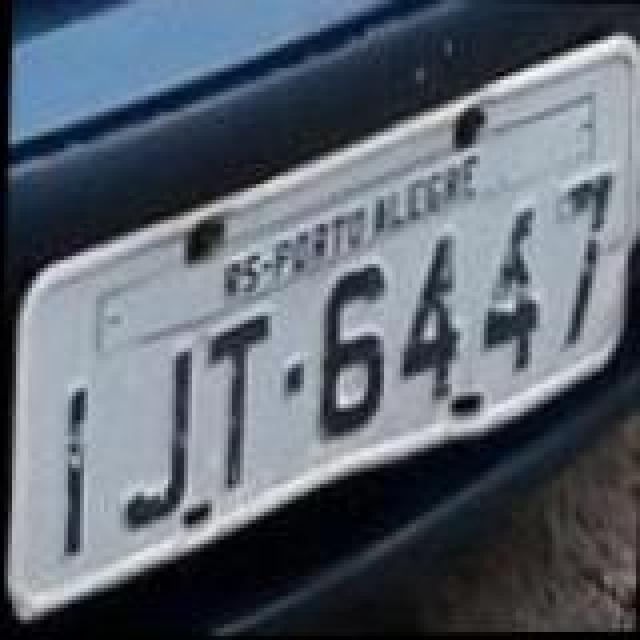1: (54, 382, 90, 562)
4: (396, 232, 464, 408), (548, 166, 612, 350), (476, 202, 540, 374)
6: (314, 258, 390, 442)
J: (116, 346, 192, 534)
T: (198, 312, 270, 496)
